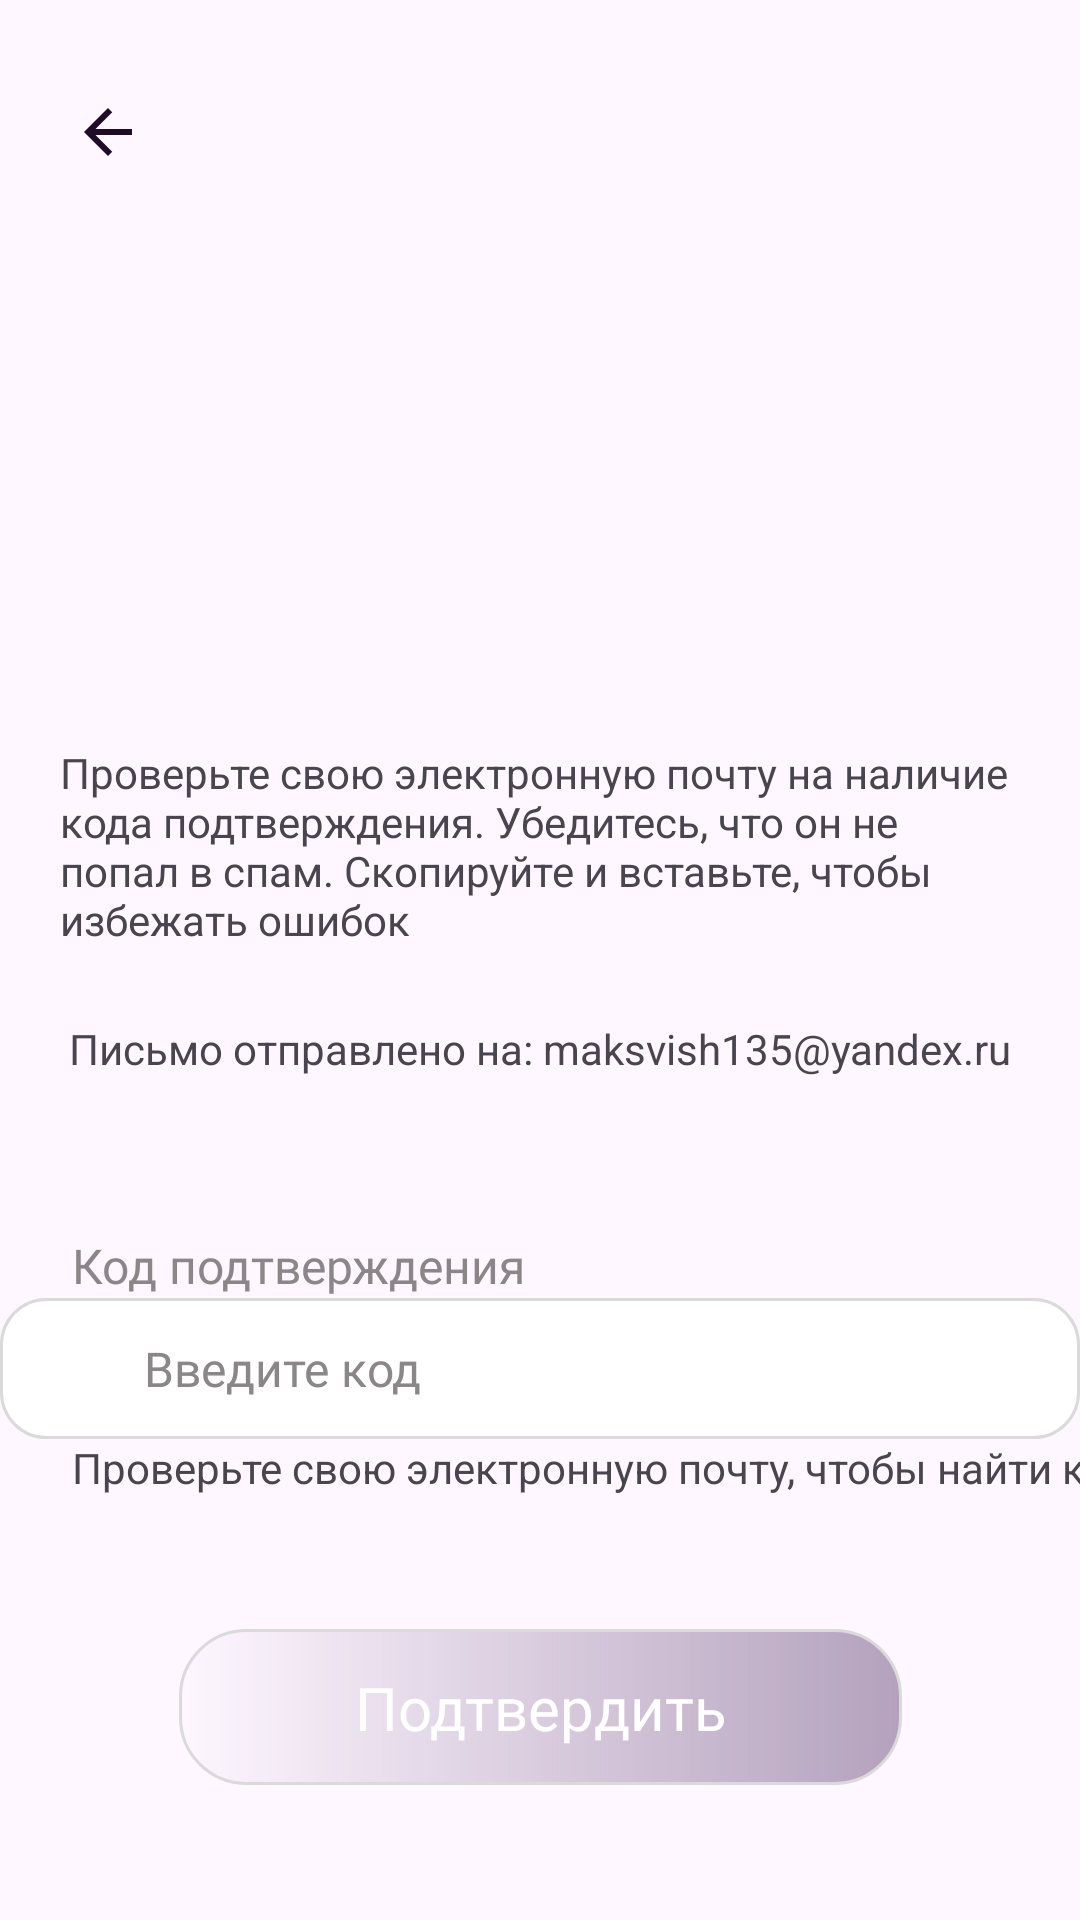

Where to tap for icons on this 1080 × 1920 app screen, as point (x, y):
arrow back: point (108, 132)
